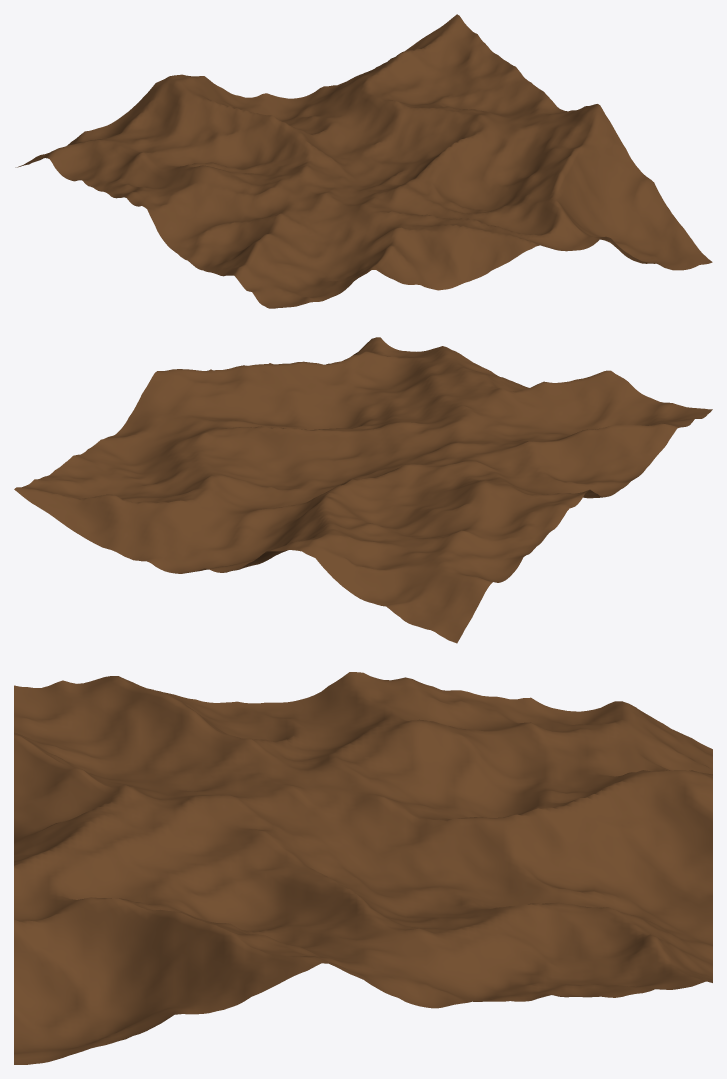
File: 3dBackground.fbx
3 views of the same model, one above another, from view 1: azimuth 30°, elevation 25°; view 2: azimuth 150°, elevation 25°; view 3: azimuth 270°, elevation 25° (orthographic). The views are drawn at different scales.
Visible parts, largest first — view 1: Landscape; view 2: Landscape; view 3: Landscape.
Part boxes in pixels (left/top/right/bottom): Landscape: left=15, top=14, right=712, bottom=308; Landscape: left=14, top=337, right=712, bottom=643; Landscape: left=14, top=672, right=712, bottom=1064.
Size of the model in its own units: 600 by 100 by 600.
